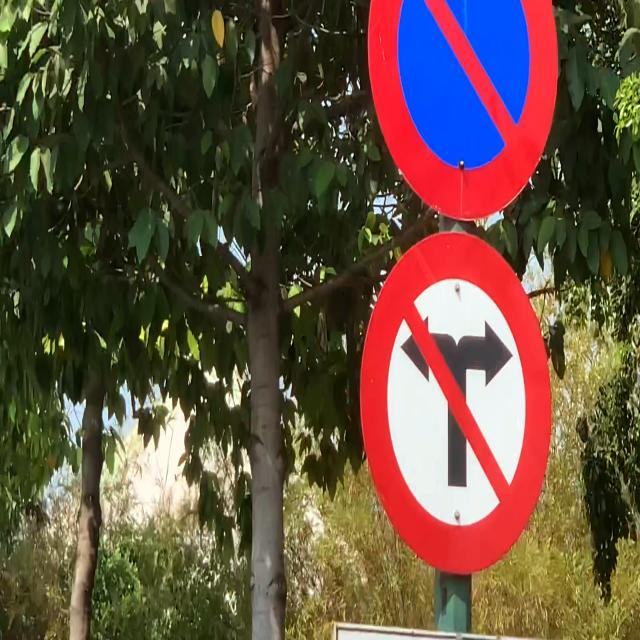P.131a: (354, 0, 566, 222)
P.137: (347, 220, 564, 578)
